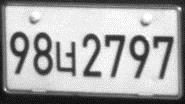2: (81, 32, 103, 78)
7: (102, 33, 126, 79), (152, 34, 175, 81)
8: (32, 31, 53, 76)
9: (128, 33, 150, 79), (9, 30, 30, 74)
너: (55, 40, 77, 78)
